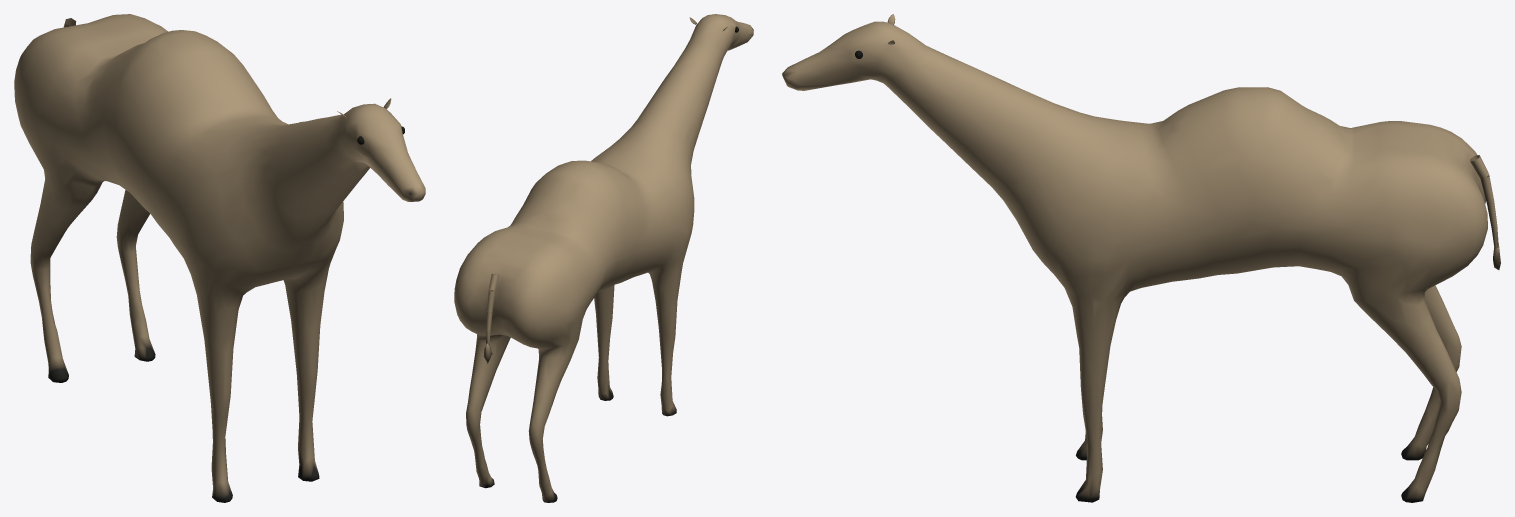
The model's file is kamel.glb.
3 views of the same model, side by side, from view 1: azimuth 30°, elevation 25°; view 2: azimuth 150°, elevation 25°; view 3: azimuth 270°, elevation 25° (orthographic). The views are drawn at different scales.
Visible parts, largest first — view 1: lack; view 2: lack; view 3: lack.
Part boxes in pixels (x1,y1,x2,y2): lack: [14, 14, 425, 502]; lack: [454, 14, 753, 502]; lack: [782, 14, 1500, 502].
Size of the model in its own units: 0.8803 by 2.56 by 3.65.
